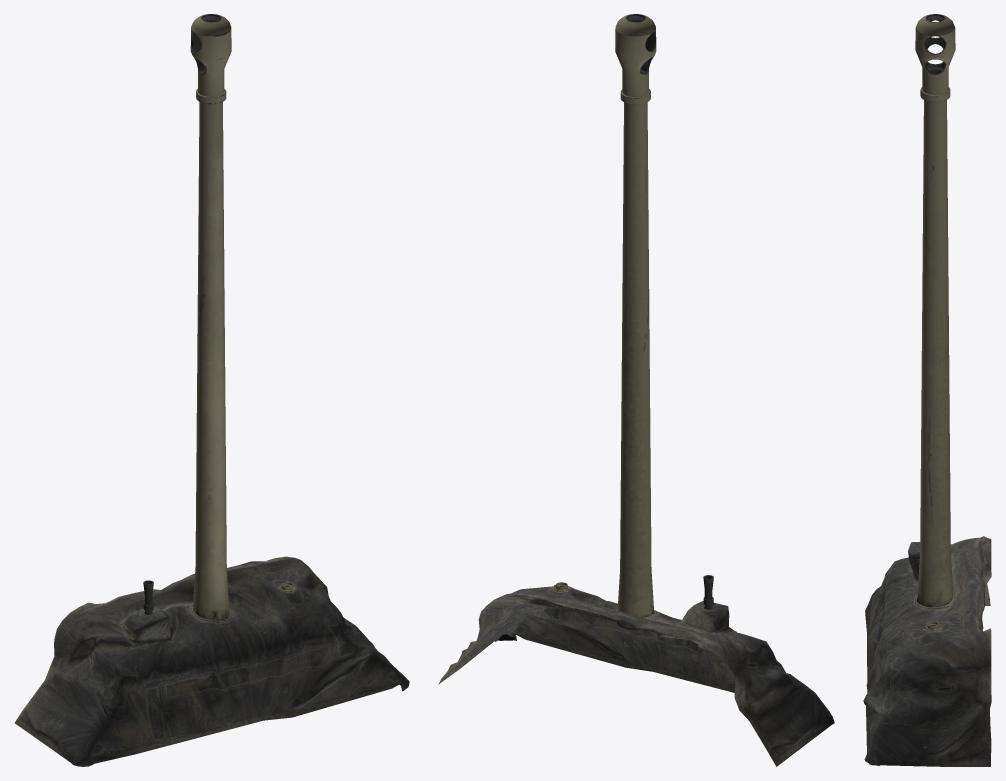
The model's file is Gun_01.glb.
3 renders of one model, left to right at view 1: azimuth 30°, elevation 25°; view 2: azimuth 150°, elevation 25°; view 3: azimuth 270°, elevation 25°, orthographic. The views are drawn at different scales.
Visible parts, largest first — view 1: set_0_group_0; view 2: set_0_group_0; view 3: set_0_group_0.
Part boxes in pixels (x1,y1,x2,y2): set_0_group_0: (15, 14, 409, 766); set_0_group_0: (438, 14, 834, 766); set_0_group_0: (863, 14, 991, 766).
Bounding box in the file's own units: 2.11 × 4.09 × 0.7118.
Materials: 1 (1 with a texture image).
